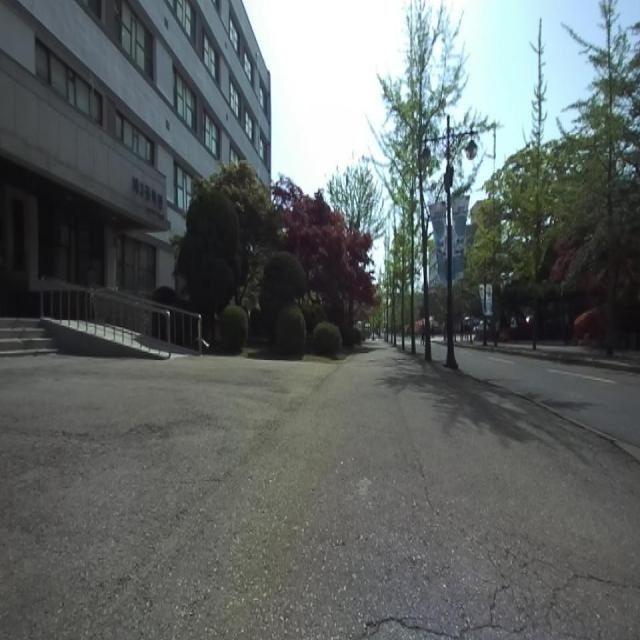sidewalk: (0, 341, 640, 639)
